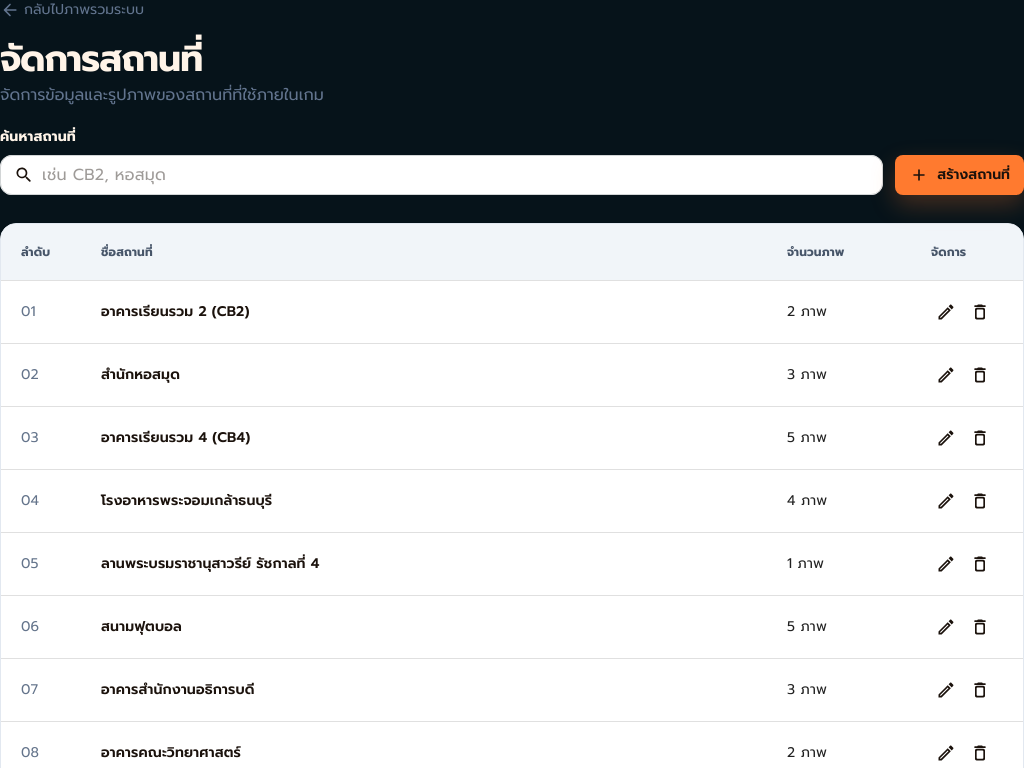
Test: admin location navigation › shows loading feedback only in the results area while locations are pending
Type "CB2" into the field labelled "ค้นหาสถานที่". click: (463, 175)
box: left=42, top=156, right=883, bottom=195
Wait 200 ms
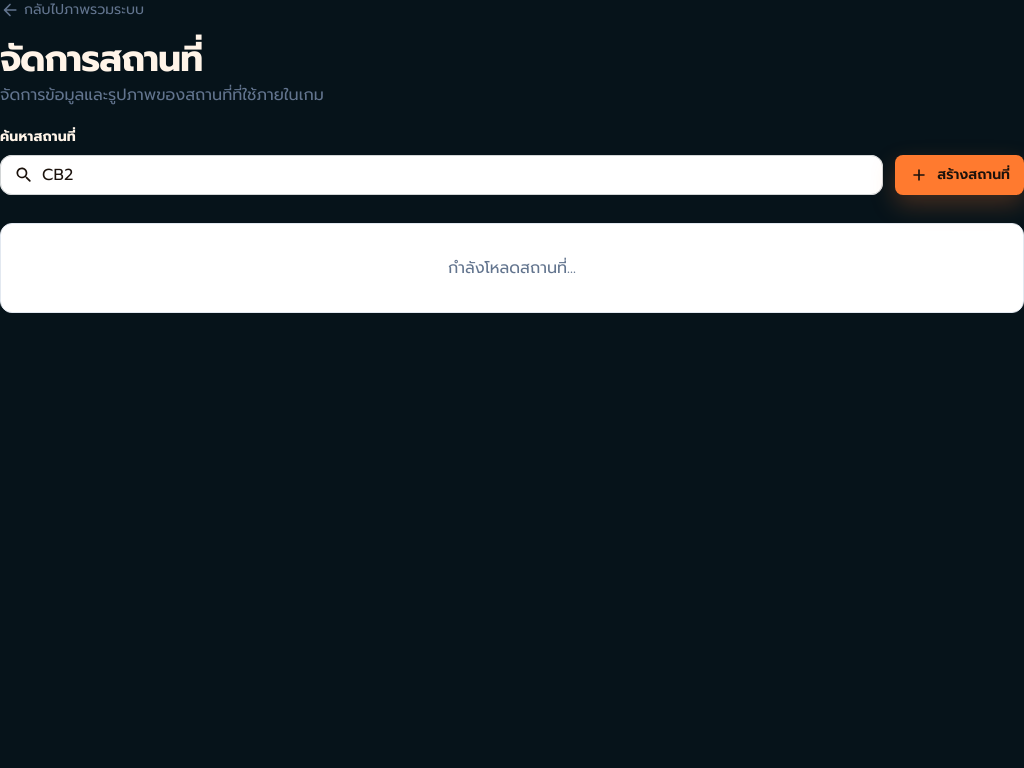
Check: the heading "จัดการสถานที่" is shown, box left=0, top=32, right=202, bottom=86
Check: the message shows "กำลังโหลดสถานที่", box left=448, top=256, right=576, bottom=280
